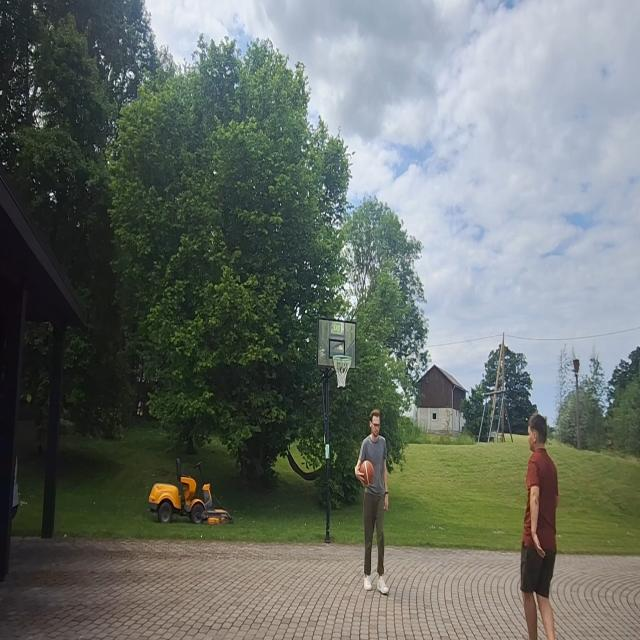ball: (360, 458, 375, 490)
basket: (331, 352, 353, 389)
player: (521, 411, 560, 640), (356, 406, 395, 596)
